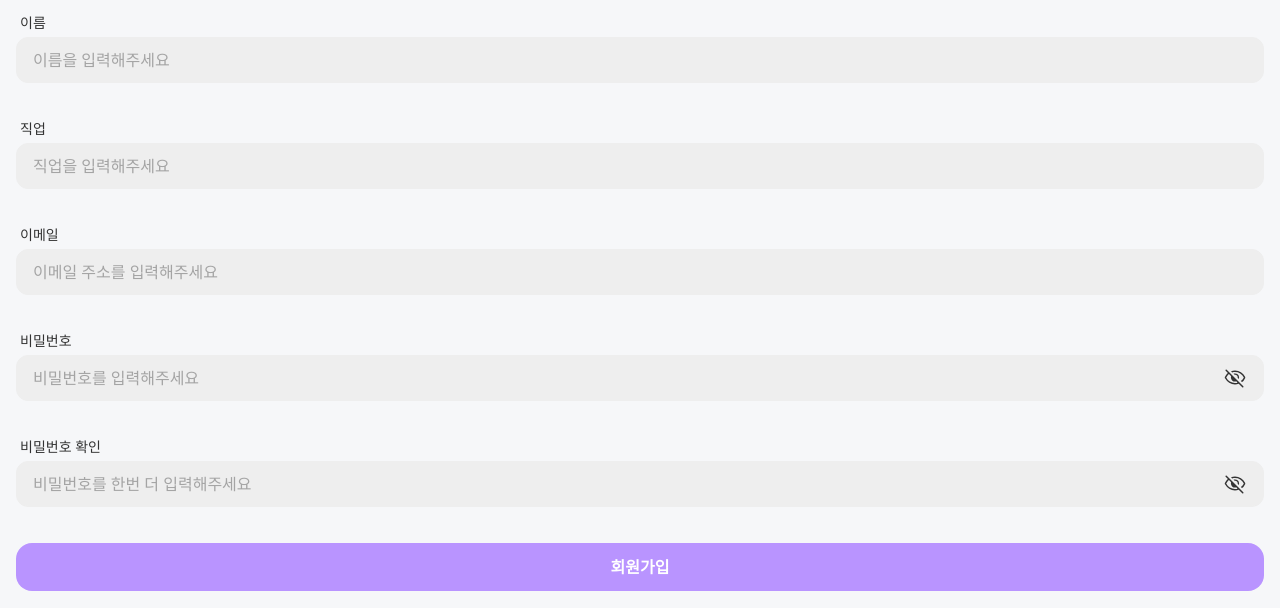
🧩 SignupForm — 폼 유효성 검증 › 비밀번호와 비밀번호 확인이 일치하지 않으면 에러 메시지가 표시된다
The width and height of the screenshot is (1280, 608).
Step 1. Type "abcd1234" into the password field labelled "비밀번호" → coordinates (628, 378), box [33,366,1223,390]
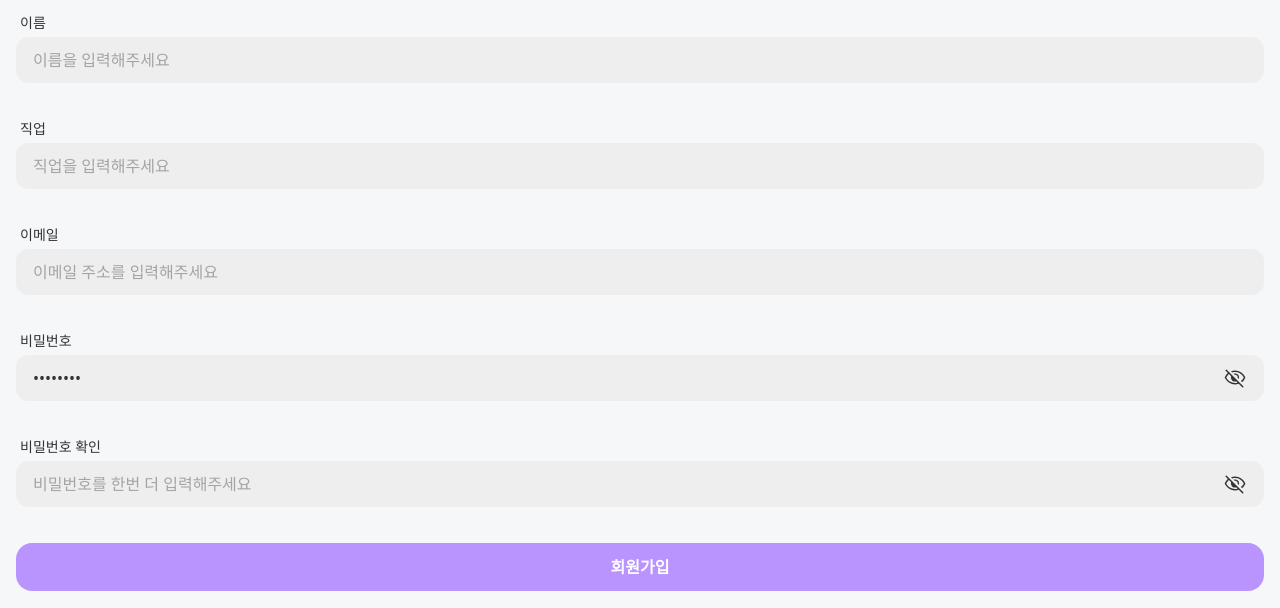
Step 2. Type "abcd9999" into the password field labelled "비밀번호 확인" → coordinates (628, 484), box [33,472,1223,496]
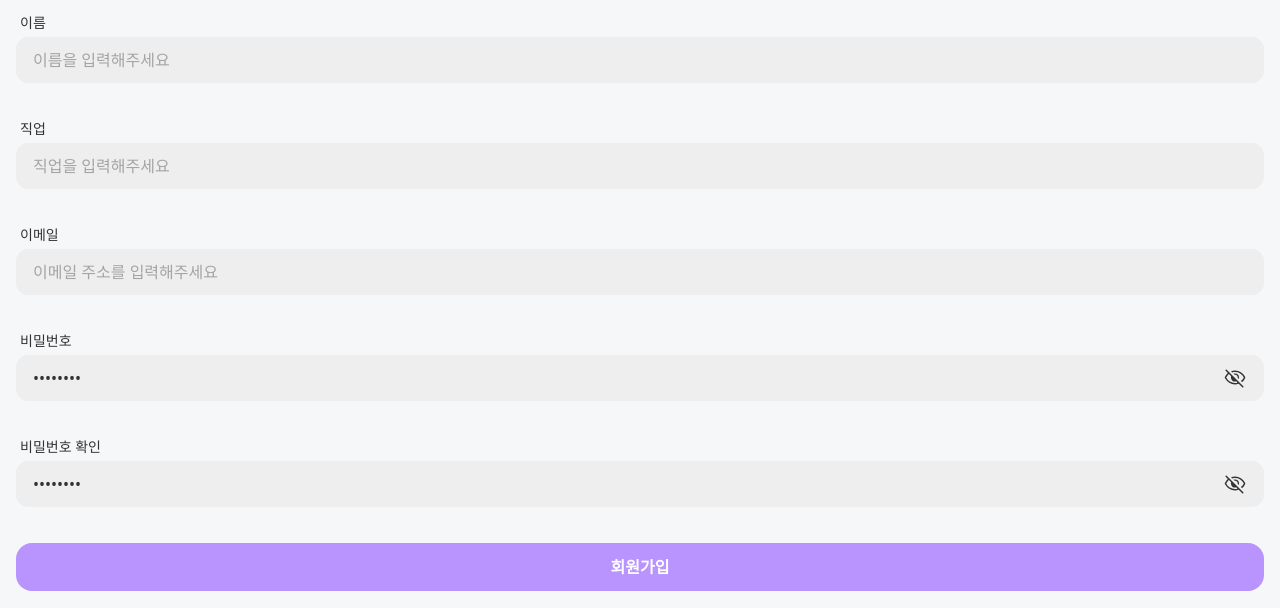
Step 3. Click the button "회원가입" → coordinates (640, 567), box [16,543,1264,591]
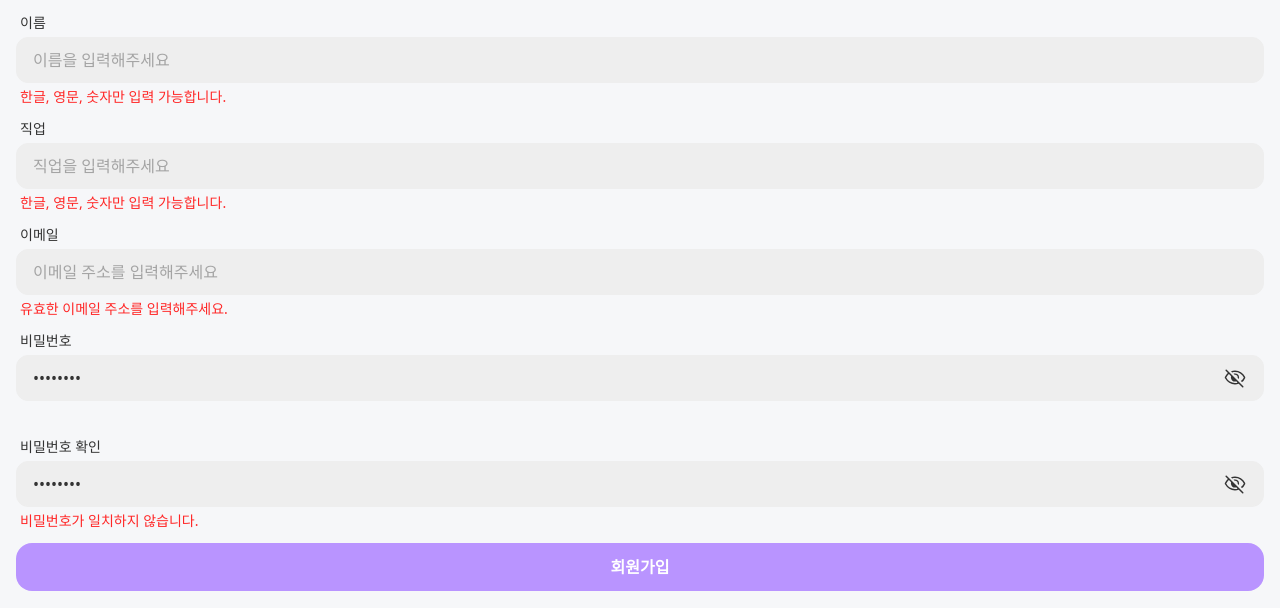
Check: the text "비밀번호가 일치하지 않습니다." is shown, box [20,511,198,530]
